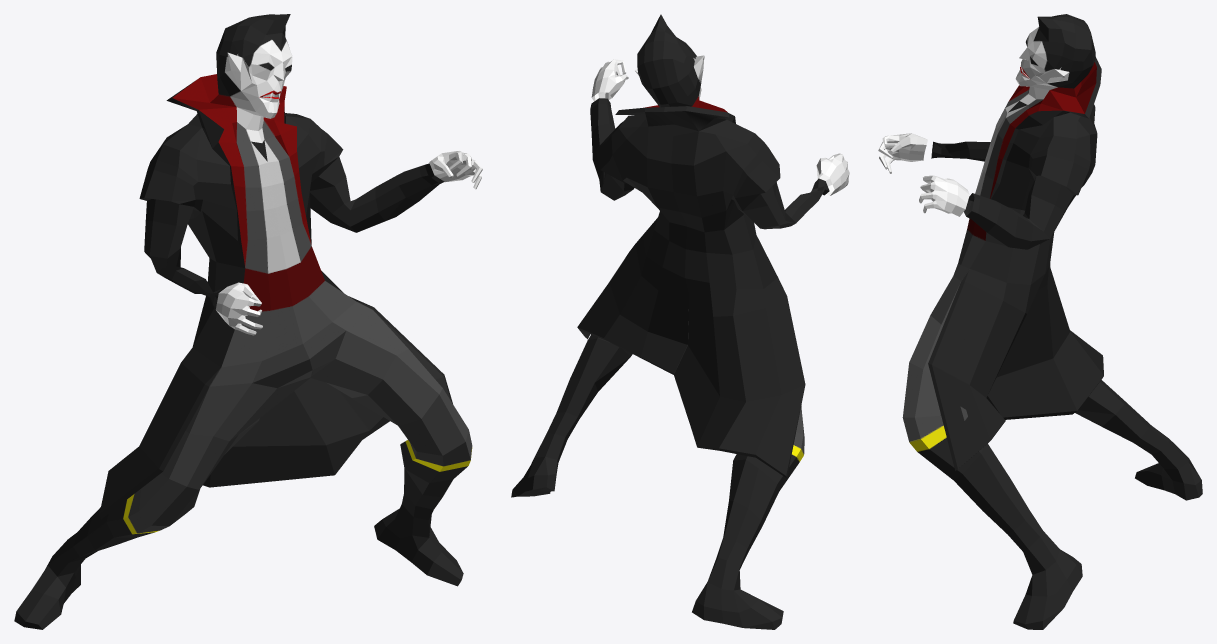
Rendered from VampireAttack(14).obj.
3 views of the same model, side by side, from view 1: azimuth 30°, elevation 25°; view 2: azimuth 150°, elevation 25°; view 3: azimuth 270°, elevation 25° (orthographic). The views are drawn at different scales.
Visible parts, largest first — view 1: Plane002; view 2: Plane002; view 3: Plane002.
Part boxes in pixels (x1,y1,x2,y2): Plane002: (14, 14, 482, 629); Plane002: (511, 14, 849, 629); Plane002: (878, 14, 1202, 629).
Bounding box in the file's own units: 76.14 × 119 × 63.59.
